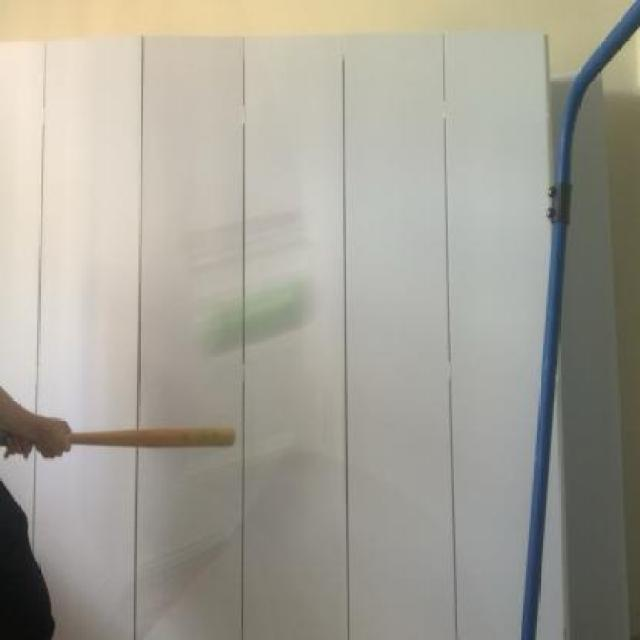baseball: (186, 265, 326, 357)
